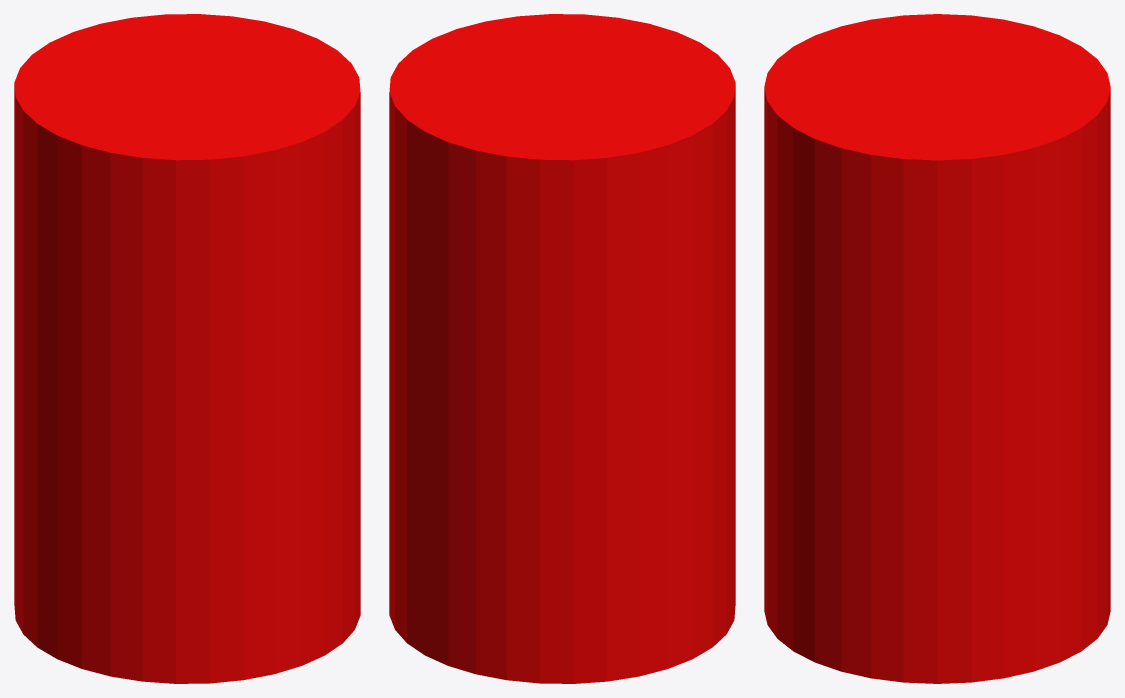
File: TestEnemyFBX.fbx
3 renders of one model, left to right at view 1: azimuth 30°, elevation 25°; view 2: azimuth 150°, elevation 25°; view 3: azimuth 270°, elevation 25°, orthographic.
Parts seen in each view (by area): view 1: Cylinder; view 2: Cylinder; view 3: Cylinder.
Boxes of the visible parts, x1,y1,x2,y2 form: Cylinder: (14, 14, 360, 683); Cylinder: (389, 14, 735, 683); Cylinder: (764, 14, 1110, 683).
Bounding box in the file's own units: 150 × 250 × 150.
